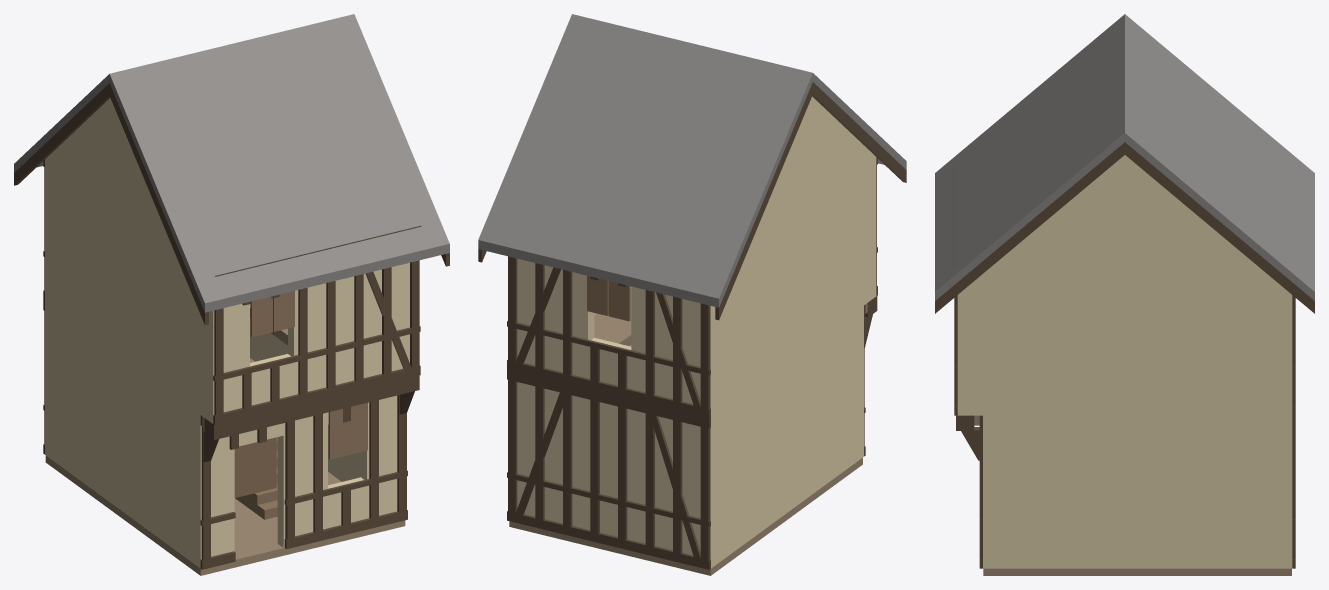
Rendered from artisan-a-v2.glb.
The picture shows the model from 3 angles, left to right: view 1: azimuth 30°, elevation 25°; view 2: azimuth 150°, elevation 25°; view 3: azimuth 270°, elevation 25°; orthographic projection.
Visible parts, largest first — view 1: render, roof, timber, floor, artisan-a-v2-door-01 leaf, artisan-a-v2-shutter-01 leaf, stair, artisan-a-v2-shutter-02 leaf, artisan-a-v2-shutter-03 leaf; view 2: render, roof, timber, floor, artisan-a-v2-shutter-05 leaf, artisan-a-v2-shutter-04 leaf; view 3: render, roof, timber, floor.
Part boxes in pixels (x1,y1,x2,y2): render: (45, 98, 409, 568); roof: (14, 14, 449, 312); timber: (14, 83, 449, 569); floor: (45, 304, 405, 575); artisan-a-v2-door-01 leaf: (234, 437, 276, 497); artisan-a-v2-shutter-01 leaf: (328, 402, 367, 459); stair: (235, 437, 277, 519); artisan-a-v2-shutter-02 leaf: (250, 296, 272, 337); artisan-a-v2-shutter-03 leaf: (273, 291, 294, 331); render: (517, 96, 876, 568); roof: (478, 14, 906, 307); timber: (478, 82, 906, 569); floor: (509, 289, 867, 575); artisan-a-v2-shutter-05 leaf: (608, 281, 630, 321); artisan-a-v2-shutter-04 leaf: (587, 275, 608, 315); render: (957, 155, 1292, 568); roof: (935, 14, 1314, 300); timber: (935, 142, 1314, 568); floor: (974, 415, 1291, 575).
Size of the model in its own units: 5 by 8.88 by 6.75.
